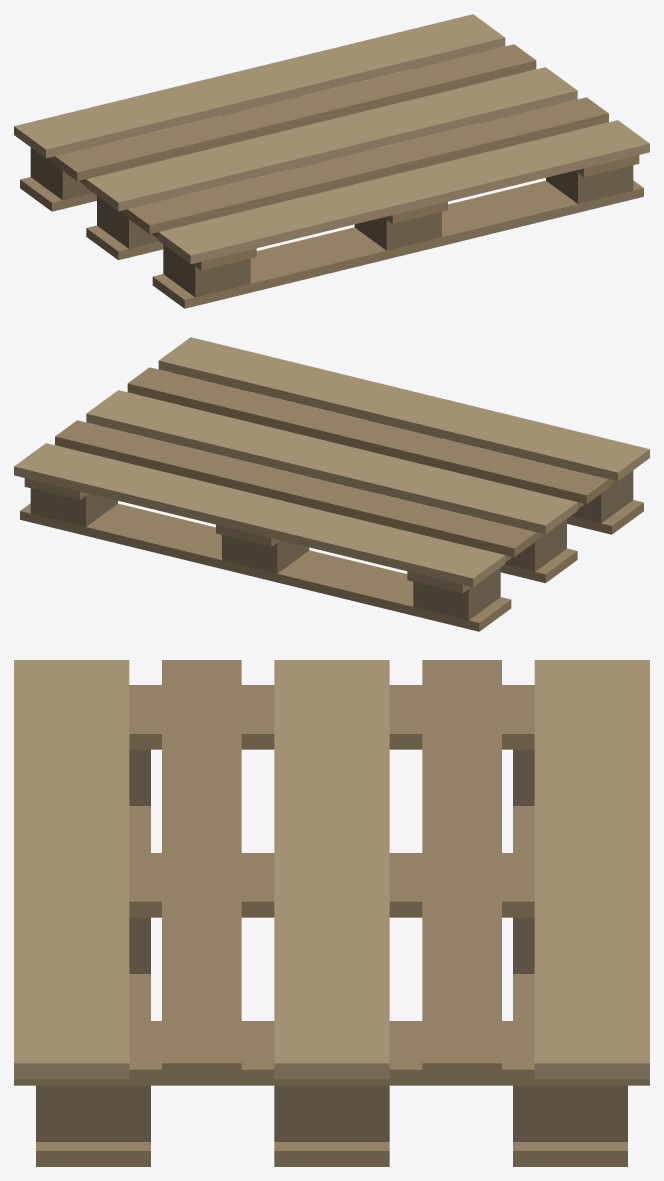
Rendered from pallet-v1.glb.
3 renders of one model, top to bottom at view 1: azimuth 30°, elevation 25°; view 2: azimuth 150°, elevation 25°; view 3: azimuth 270°, elevation 25°, orthographic. The views are drawn at different scales.
Parts seen in each view (by area): view 1: 목재 운반 팔레트; view 2: 목재 운반 팔레트; view 3: 목재 운반 팔레트.
Boxes of the visible parts, x1=… form: 목재 운반 팔레트: x1=14, y1=14, x2=649, y2=308; 목재 운반 팔레트: x1=14, y1=337, x2=649, y2=631; 목재 운반 팔레트: x1=14, y1=660, x2=649, y2=1166.
Size of the model in its own units: 1.2 by 0.144 by 0.8.
